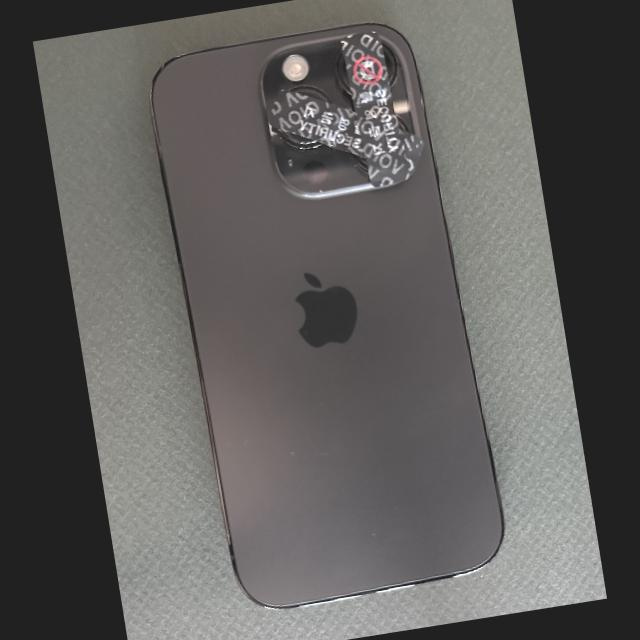lens: (277, 130, 320, 149), (382, 44, 398, 87), (351, 154, 367, 174)
phone: (150, 25, 502, 606)
sticker: (341, 31, 409, 189), (267, 90, 363, 158)
